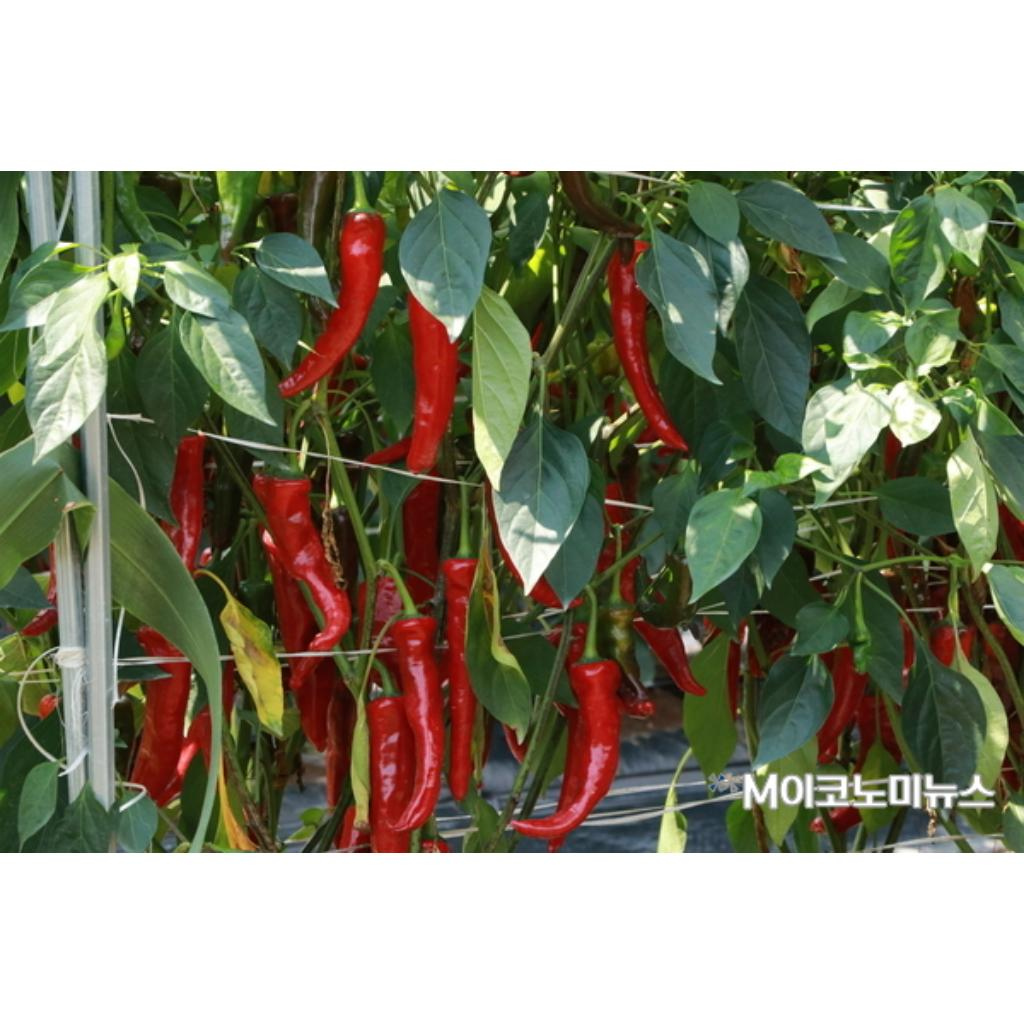chili: (510, 661, 622, 838), (280, 211, 386, 396), (252, 475, 352, 650), (608, 241, 688, 450), (392, 617, 444, 830), (406, 293, 458, 472), (442, 559, 478, 800), (130, 663, 189, 800), (366, 697, 414, 854), (160, 435, 206, 570), (818, 647, 868, 764), (634, 619, 704, 696), (138, 629, 178, 657), (290, 659, 314, 688)
